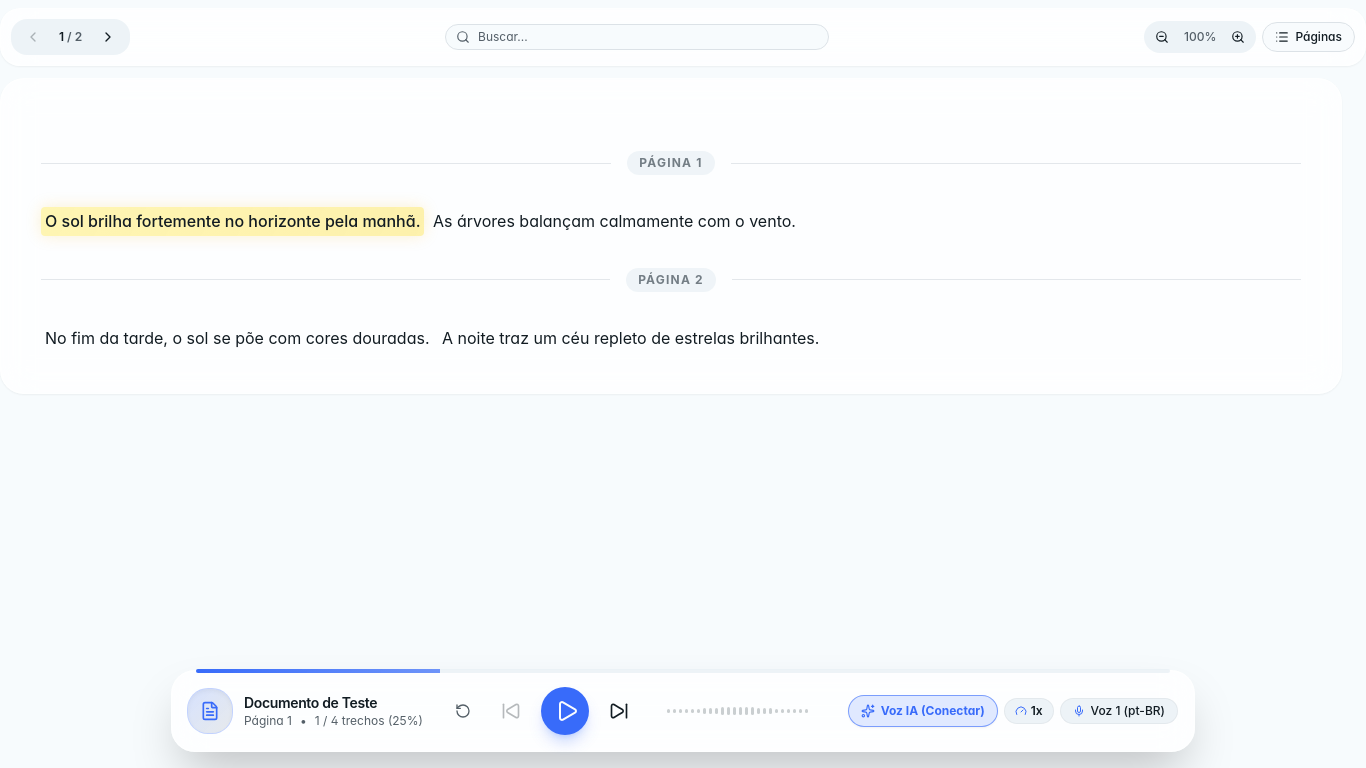
it: ModernStudioTemplate - Sistema de Busca e Navegação de Ocorrências › deve fazer wrap-around para o primeiro resultado ao avançar além do último
Type "sol" into the search field with placeholder "Buscar..." at (637, 37), box top-left (446, 25), bottom-right (828, 49)
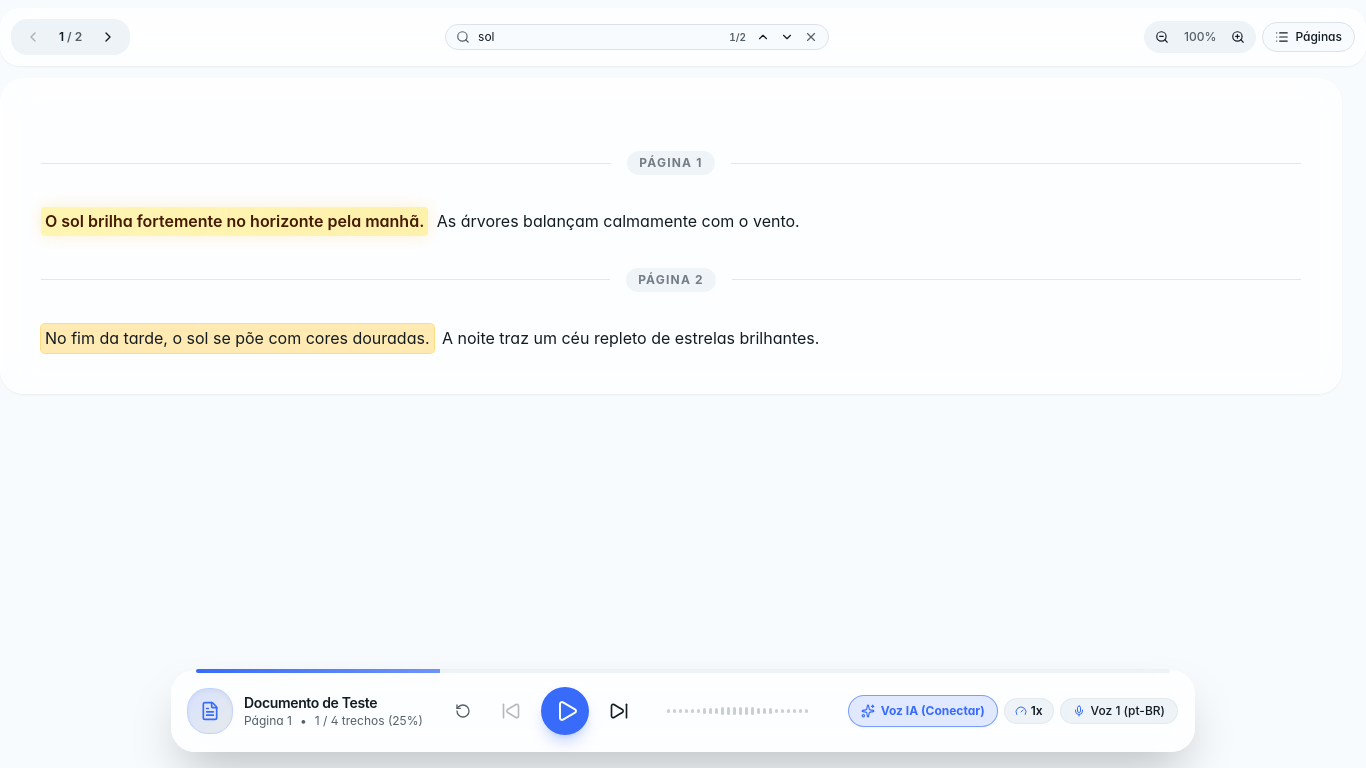
Click the button named "próxima ocorrência" at (787, 37), box top-left (776, 26), bottom-right (798, 48)
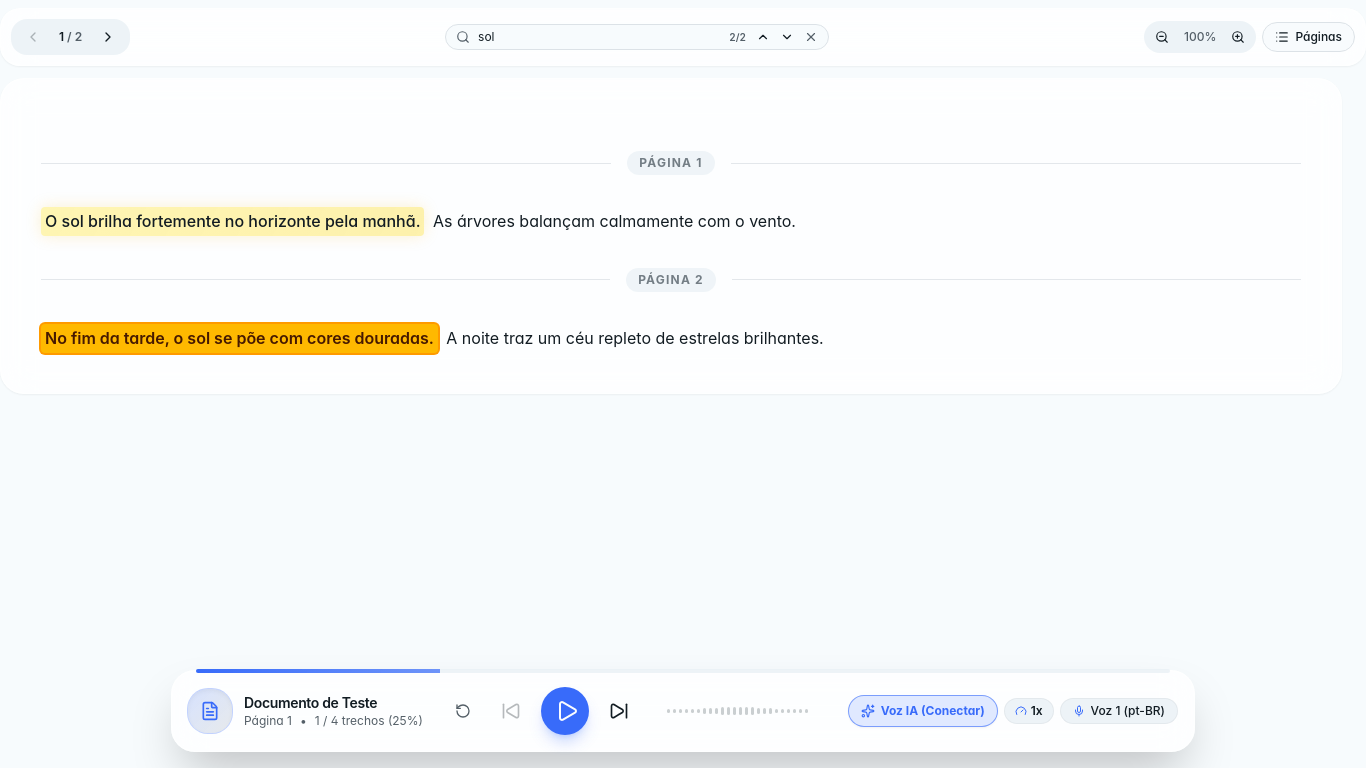
Now the text "2/2" is shown, box top-left (729, 30), bottom-right (746, 42)
Click the button named "próxima ocorrência" at (787, 37), box top-left (776, 26), bottom-right (798, 48)
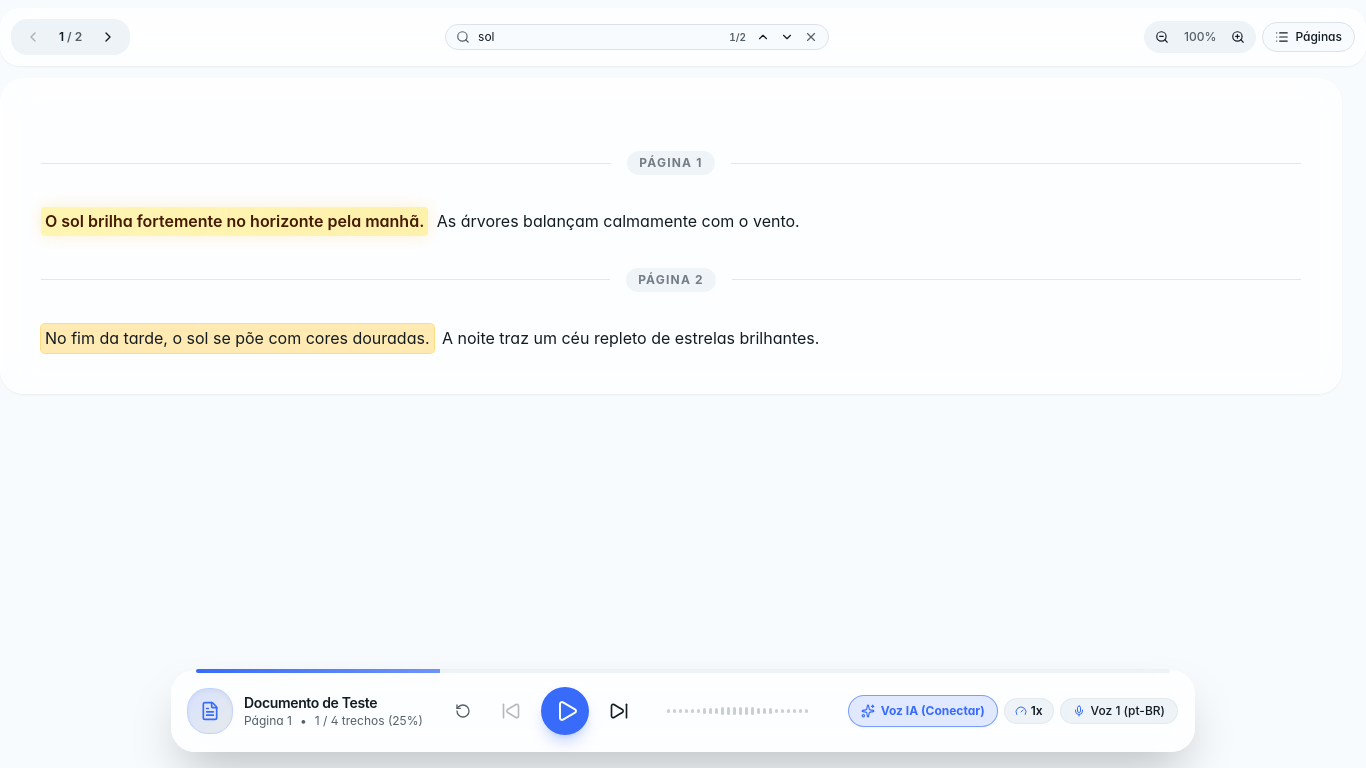
Now the text "1/2" is shown, box top-left (729, 30), bottom-right (746, 42)
